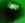black: (0, 0, 25, 23)
